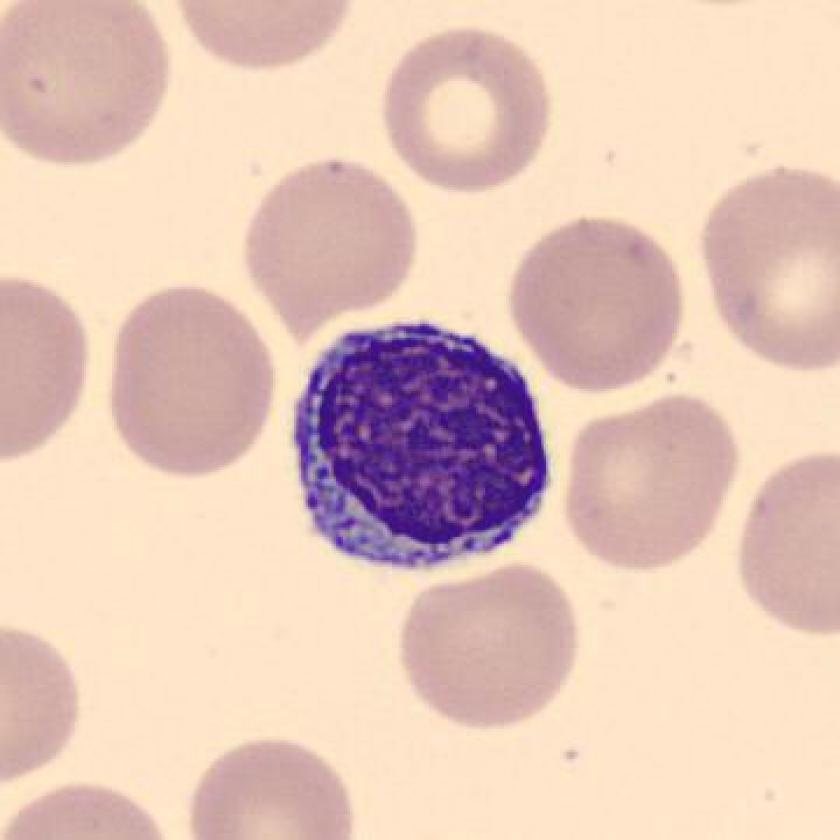lymphocyte: (286, 313, 566, 582)
